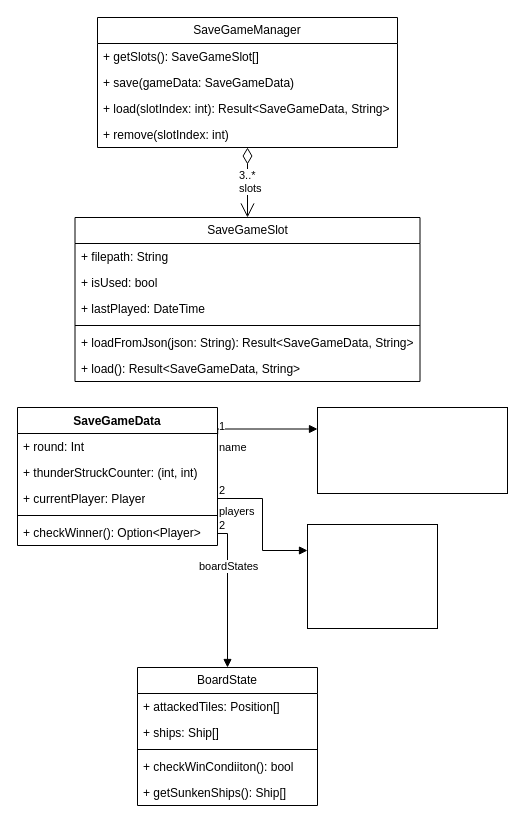
Image size: 525x826. Some labels were removed from this diagram. The centre of each missing label's shape, as x and y in pixels:
<<Enumeration>> GamePhase Placement Attack: the point at 412,450
<<Enumeration>> Player HumanPlayer1 HumanPlayer2 AI: AIStrategy: the point at 372,576
